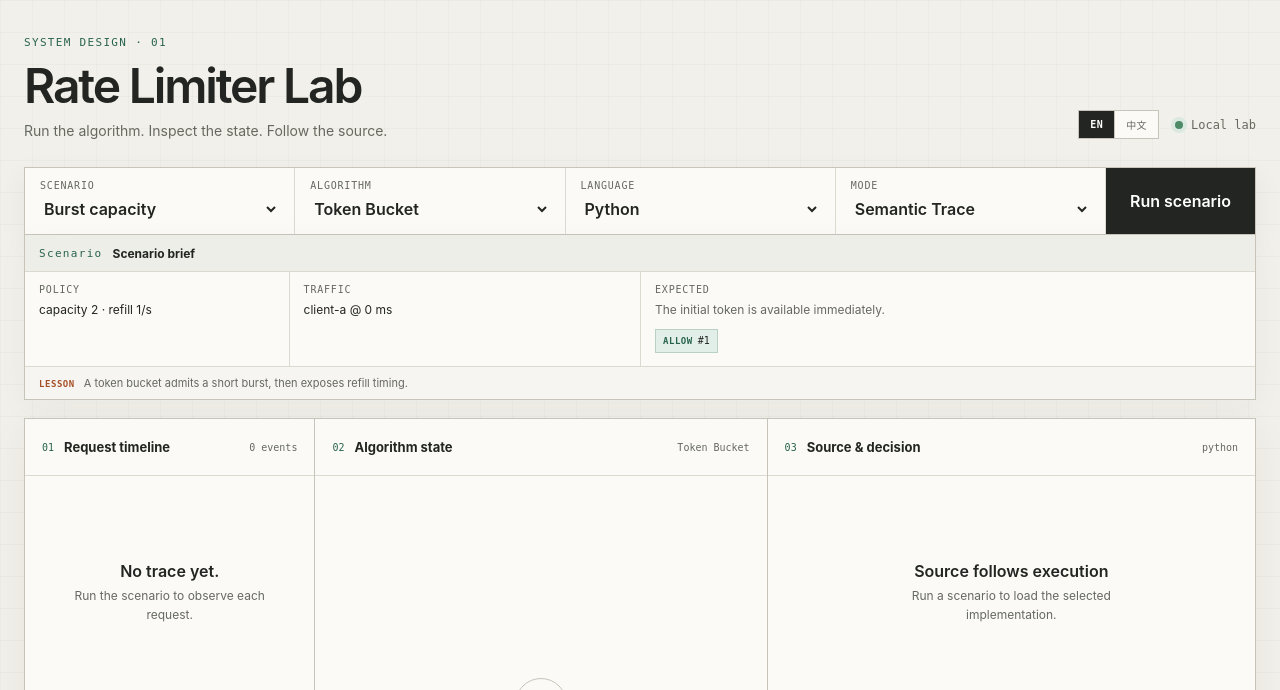
Test: Rate Limiter Lab › uses a neutral expectation for a custom algorithm without fetching a run
This screenshot has width=1280, height=690.
Select "Fixed Window" in the dropdown labelled "Algorithm": x=430, y=209 [310,195,550,223]
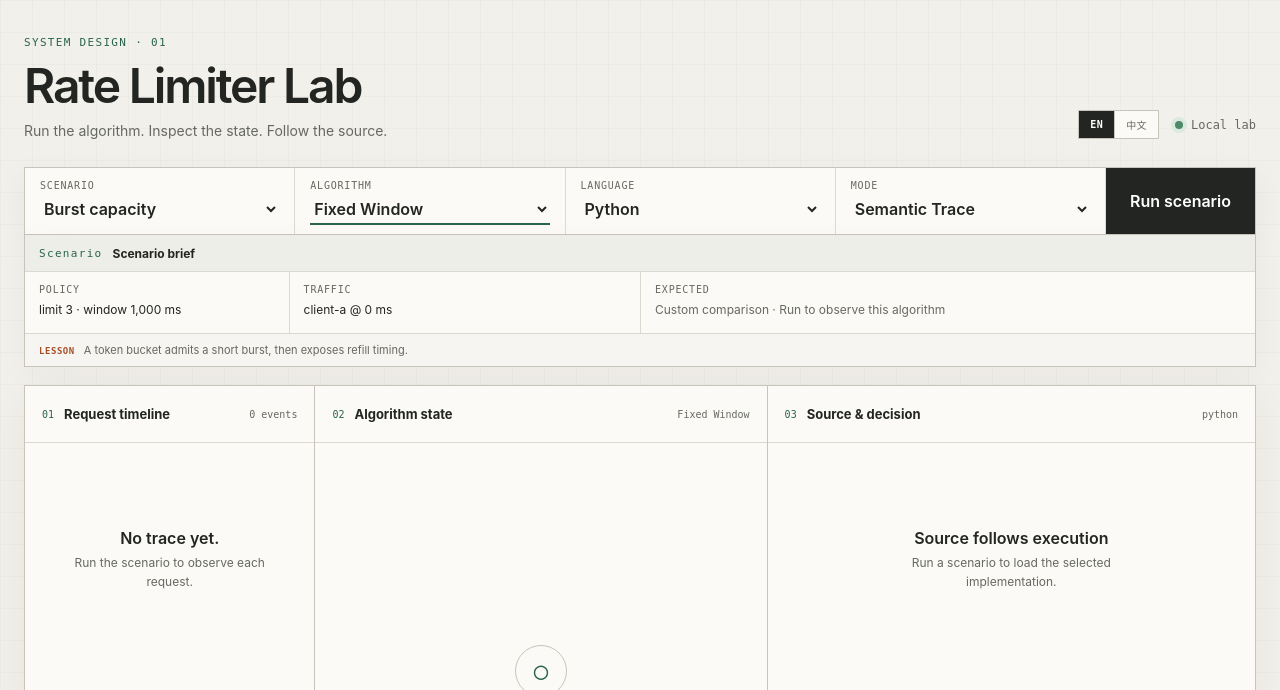
Expected: the text "limit 3 · window 1,000 ms" is shown, [39,302,182,317]
Expected: the text "Custom comparison · Run to observe this algorithm" is shown, [655,302,945,317]
Expected: the list item "#1 ALLOW" is gone
